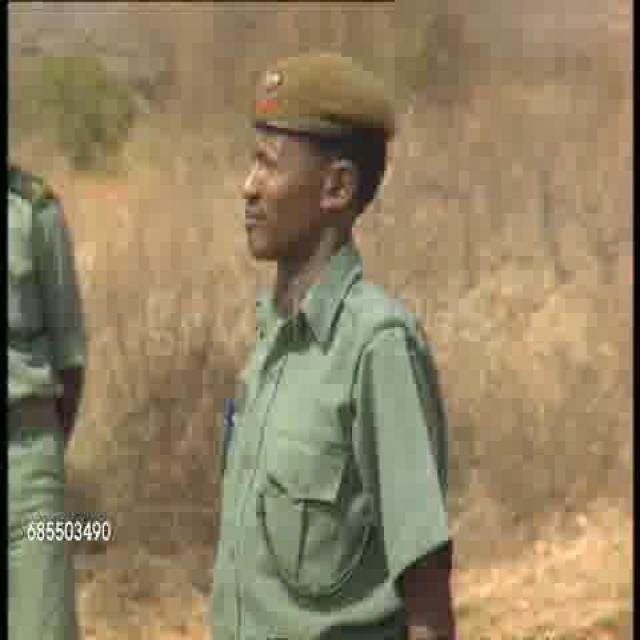poacher: (158, 55, 470, 617)
